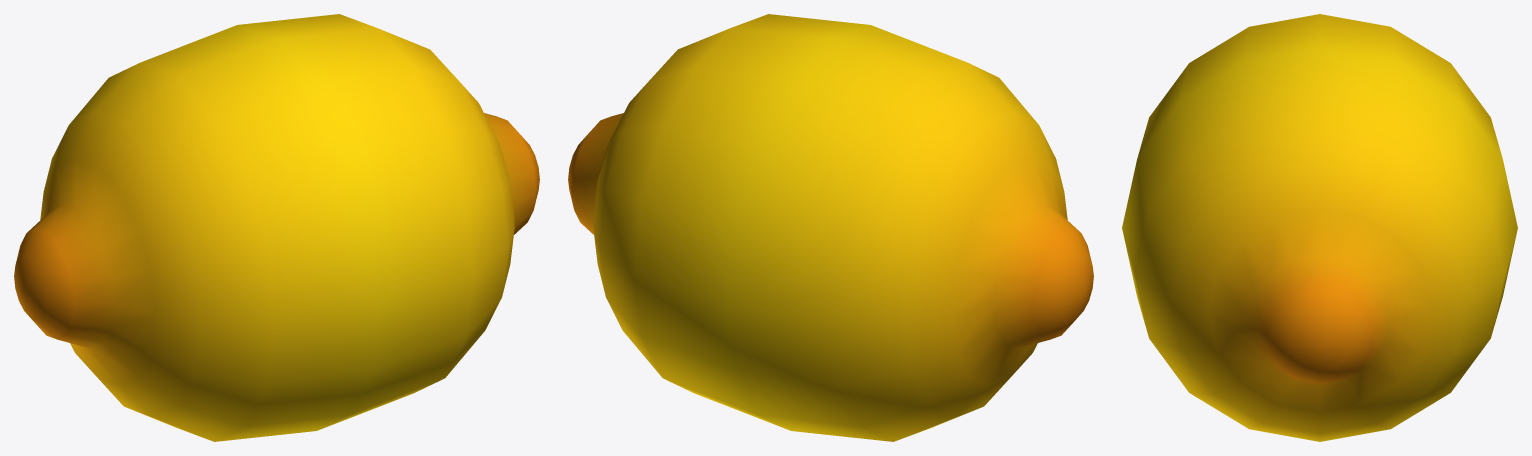
The model's file is Lemon_01.glb.
3 renders of one model, left to right at view 1: azimuth 30°, elevation 25°; view 2: azimuth 150°, elevation 25°; view 3: azimuth 270°, elevation 25°, orthographic. The views are drawn at different scales.
Parts seen in each view (by area): view 1: Lemon_01; view 2: Lemon_01; view 3: Lemon_01.
Part boxes in pixels (x1=…): Lemon_01: x1=14, y1=14, x2=539, y2=441; Lemon_01: x1=568, y1=14, x2=1093, y2=441; Lemon_01: x1=1122, y1=14, x2=1517, y2=441.
Size of the model in its own units: 0.3138 by 0.2221 by 0.2221.
1 material, 1 textured.
